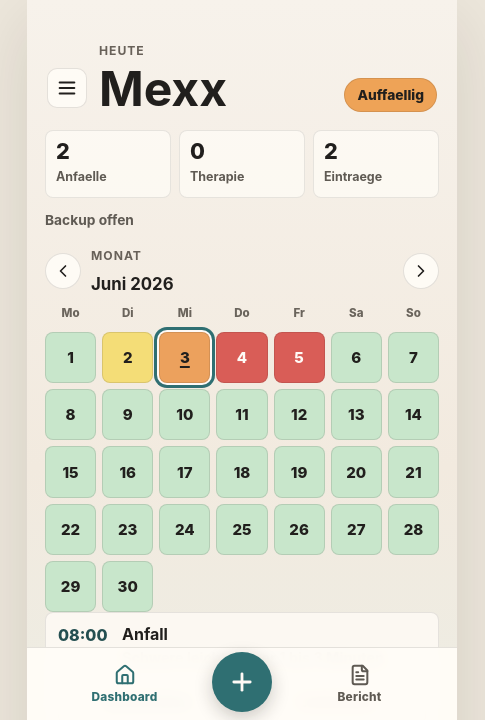
DashboardScreen › updates the top summary and event list when a calendar day is tapped
Expected: the text "Heute" is shown, [99,43,145,58]
What coordinates should you click on to do the following:
click the button named "5. Juni 2026, Status akut"
I would click on:
 (299, 358)
Its box is [274,332,325,383].
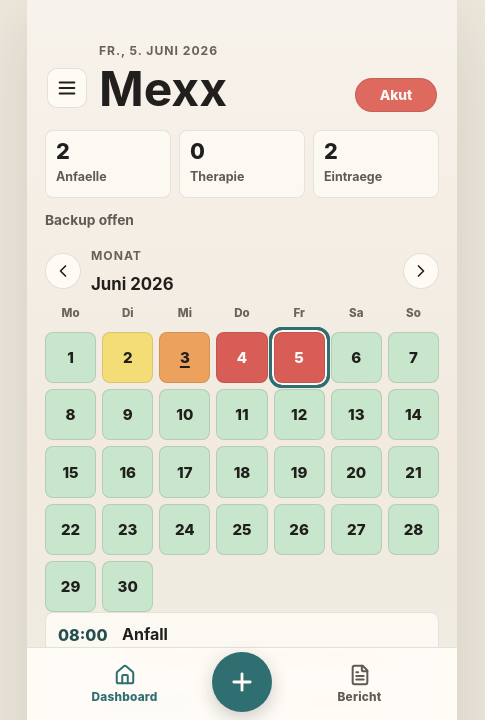
Expected: the 1st text "2" is shown, [56,138,70,164]
Expected: the text "Fr., 5. Juni 2026" is shown, [99,43,227,58]
